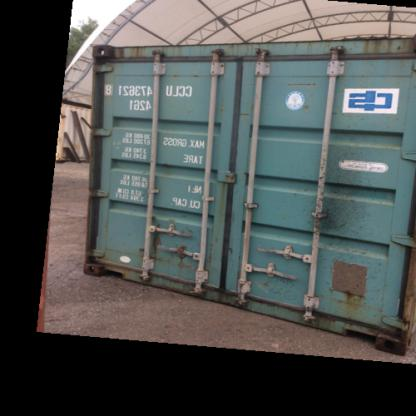Damage: (310, 100, 359, 235), (85, 41, 110, 274), (312, 304, 410, 350), (322, 227, 380, 303), (93, 40, 190, 65), (241, 270, 303, 304), (332, 38, 415, 63), (150, 232, 198, 268)
